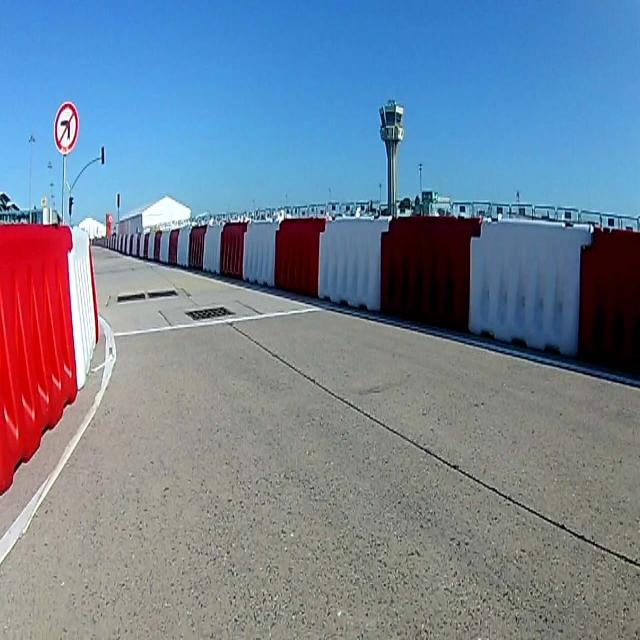soladonulmez: (55, 102, 78, 153)
